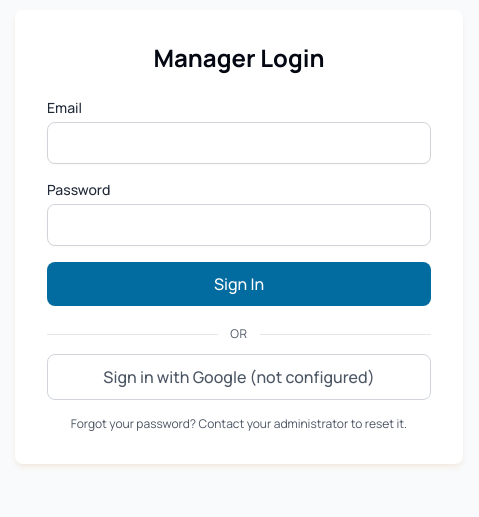
Test: Login page › shows invalid credentials error on 401
In the field labelled "Email": (239, 143) [47,122,431,164], type "manager@brekora.test"
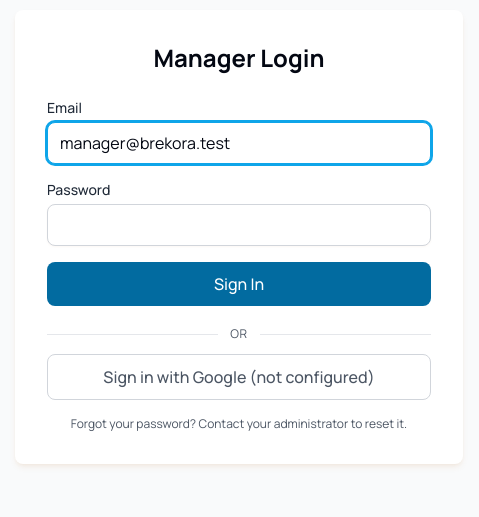
In the password field labelled "Password": (239, 225) [47,204,431,246], type "WrongPass123"
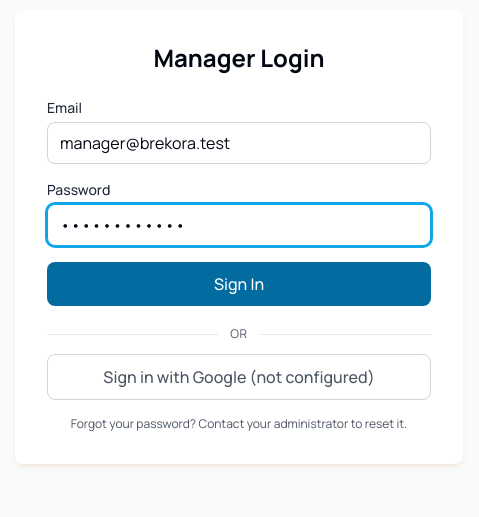
Click the button "Sign In": (239, 284) [47,262,431,306]
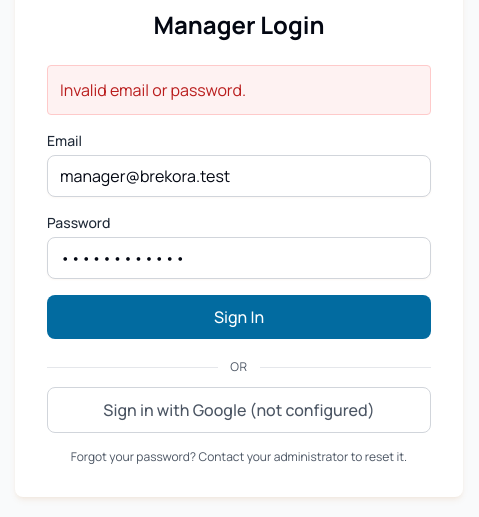
Check: the message shows "Invalid email or password", box [60,79,246,101]
